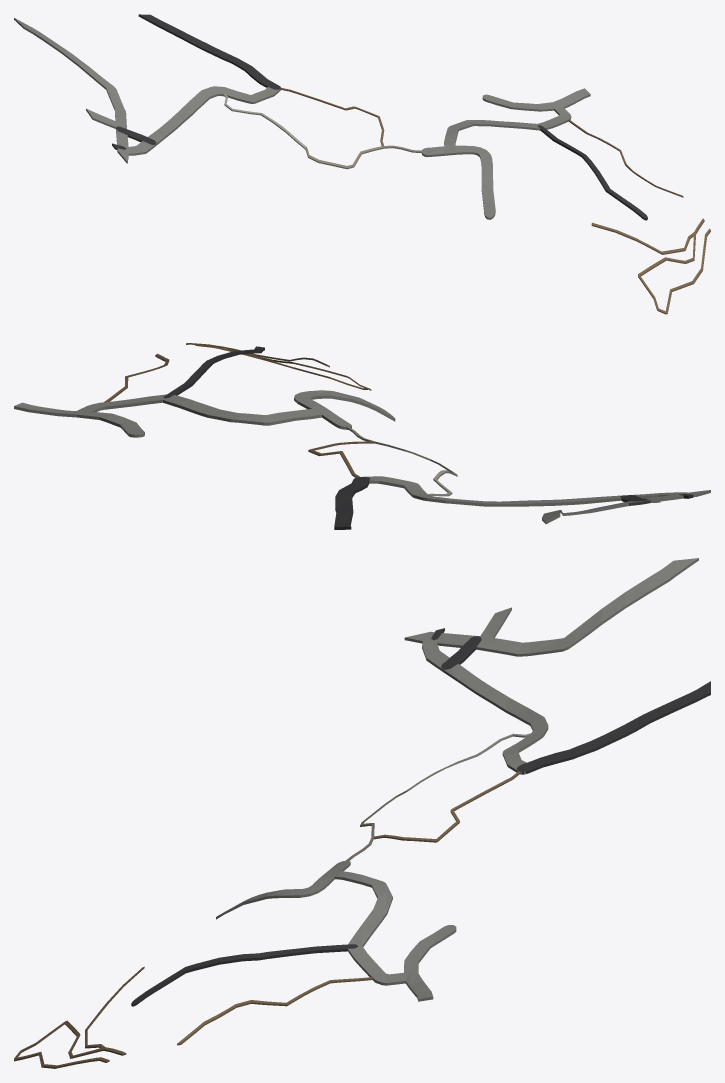
Rendered from 17-109444-59489.fbbc0043.glb.
3 renders of one model, top to bottom at view 1: azimuth 30°, elevation 25°; view 2: azimuth 150°, elevation 25°; view 3: azimuth 270°, elevation 25°, orthographic. The views are drawn at different scales.
Size of the model in its own units: 293 by 119 by 292.
